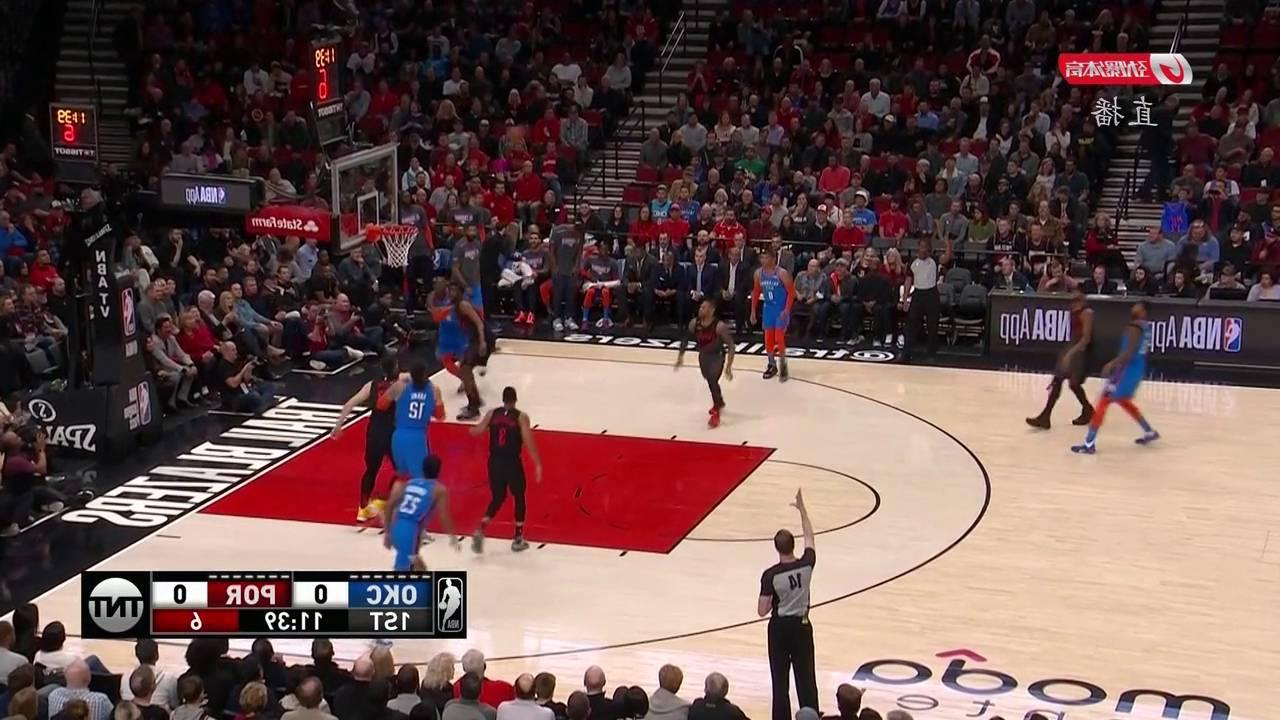basketball: (505, 126, 528, 147)
